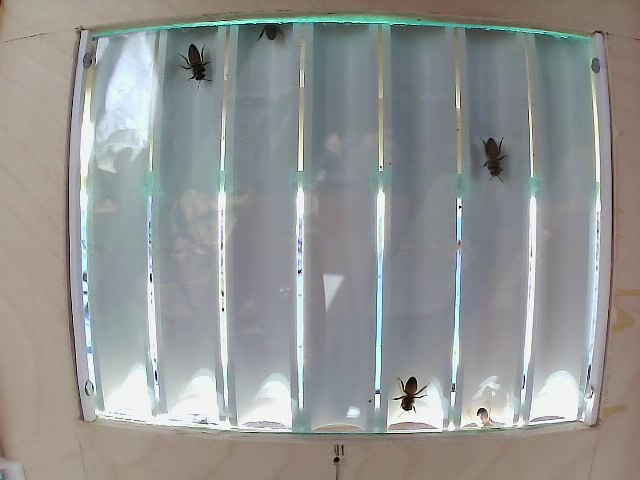bee: (462, 124, 504, 176), (180, 35, 218, 92)
